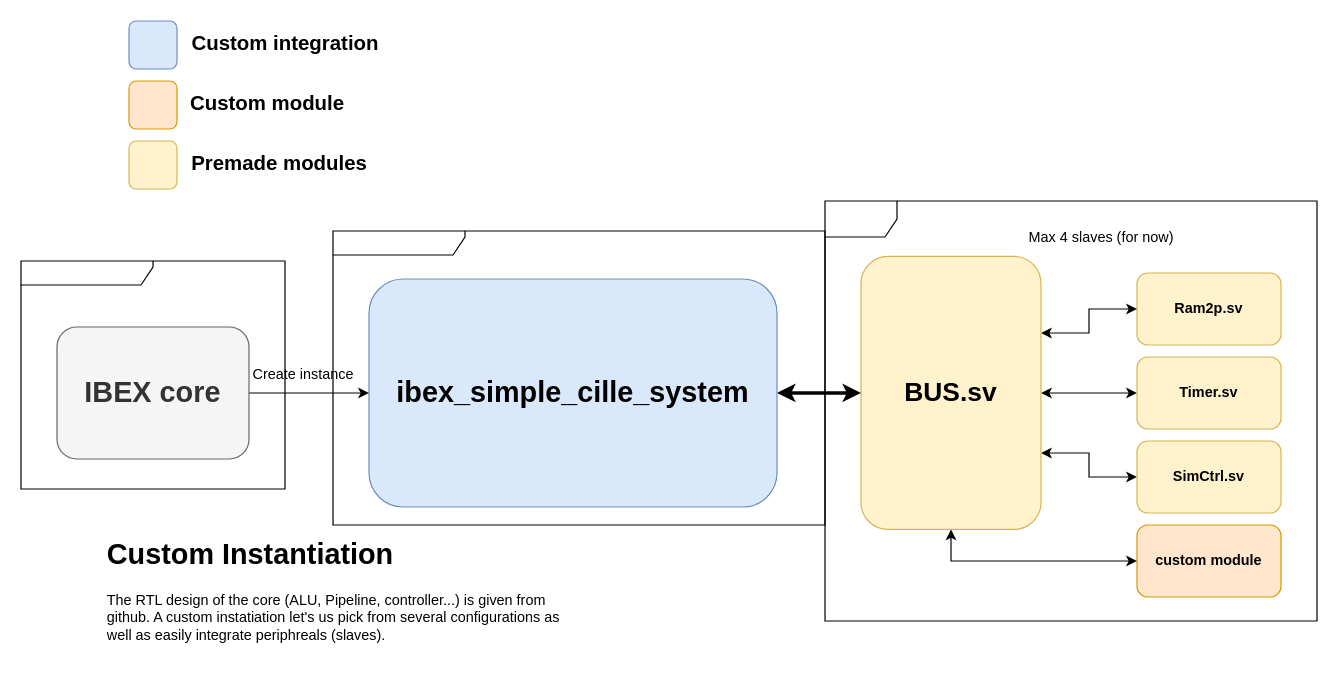
This 1338x698 diagram has some shape labels left out. Each missing label, with the box of its shape:
Base RTL files: (20, 260, 285, 489)
Core instance: (332, 230, 825, 525)
Modules: (824, 200, 1317, 621)
